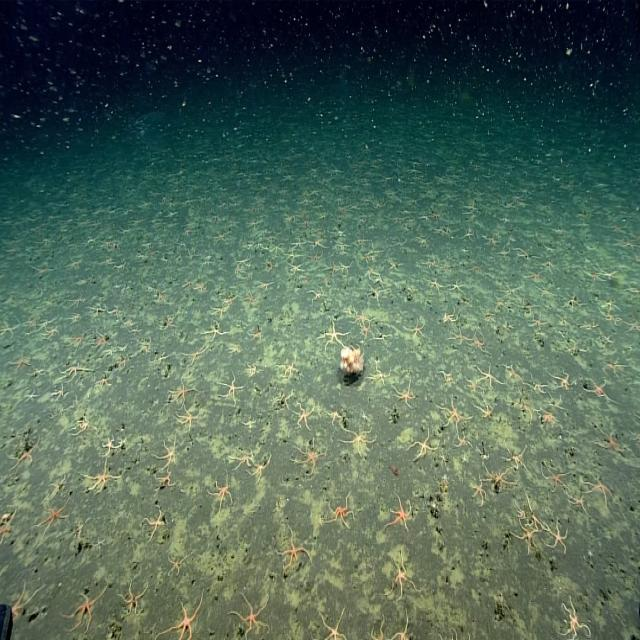brittle-stars: (66, 584, 105, 634), (163, 600, 205, 640), (232, 594, 270, 636), (388, 552, 418, 596), (7, 580, 40, 620), (277, 530, 309, 570), (559, 598, 589, 640), (84, 461, 120, 493), (8, 438, 42, 470), (38, 498, 69, 532), (587, 474, 615, 508), (318, 609, 348, 640), (118, 582, 147, 614), (328, 496, 354, 530), (342, 427, 373, 455), (387, 496, 411, 532), (441, 399, 468, 431), (209, 475, 233, 510), (295, 438, 322, 469), (541, 462, 568, 491), (410, 432, 437, 461), (502, 442, 527, 473), (512, 523, 537, 554), (548, 519, 569, 555), (598, 425, 623, 455), (484, 467, 512, 492), (221, 374, 243, 405), (324, 324, 349, 351), (169, 378, 193, 406), (144, 510, 166, 539), (295, 403, 316, 432), (585, 377, 609, 402), (477, 362, 500, 388), (158, 439, 180, 466), (248, 454, 270, 481), (472, 370, 495, 395), (278, 354, 300, 380), (185, 343, 211, 365), (388, 618, 414, 640), (394, 380, 414, 408), (62, 360, 90, 380), (552, 369, 574, 393), (101, 435, 122, 459), (177, 408, 199, 430), (155, 468, 177, 489), (371, 364, 392, 386), (231, 448, 253, 469), (72, 413, 92, 436), (8, 352, 31, 372), (470, 477, 487, 504), (204, 321, 228, 340), (408, 318, 428, 339), (476, 401, 496, 422), (168, 554, 186, 576), (541, 406, 559, 428), (450, 328, 468, 348), (160, 312, 178, 332), (500, 281, 520, 299), (470, 331, 486, 353), (240, 412, 258, 431), (68, 291, 86, 308), (91, 332, 108, 350), (530, 313, 547, 331), (525, 268, 544, 284), (41, 323, 60, 339), (25, 387, 41, 405), (210, 304, 228, 320), (97, 374, 113, 391), (353, 307, 368, 325), (456, 432, 472, 448), (443, 308, 458, 325), (258, 278, 276, 292), (427, 278, 442, 294), (288, 263, 304, 278), (242, 290, 257, 306), (247, 327, 263, 342), (195, 279, 209, 295), (387, 258, 401, 274), (450, 279, 464, 295), (226, 344, 243, 356), (462, 226, 474, 242), (360, 322, 372, 336), (310, 250, 322, 264)
